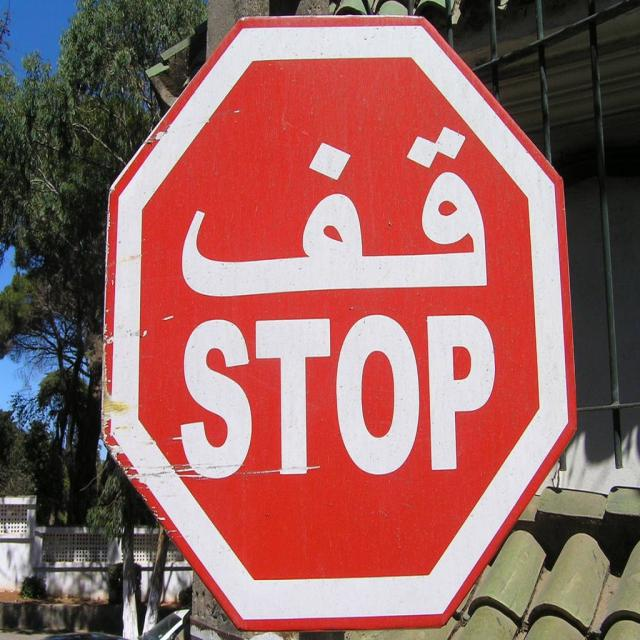Stop-sign: (99, 12, 578, 632)
